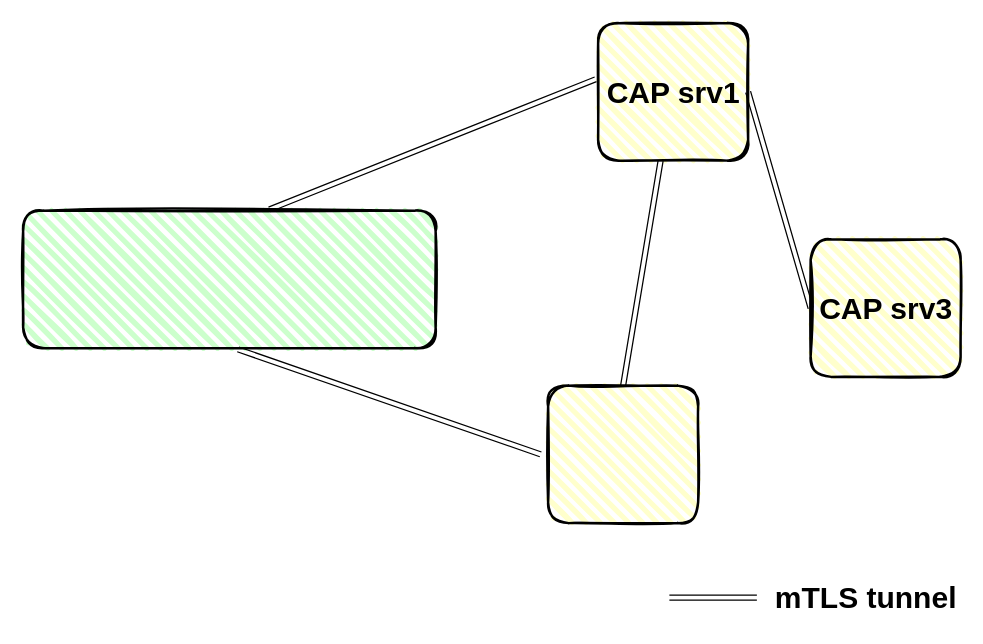
Some shapes in this 983 by 644 pixel diagram are drawn without their labels. Each missing label, with the centre of its shape:
CAP srv2: (622,454)
Ingress Gateway (authentication): (228,279)
